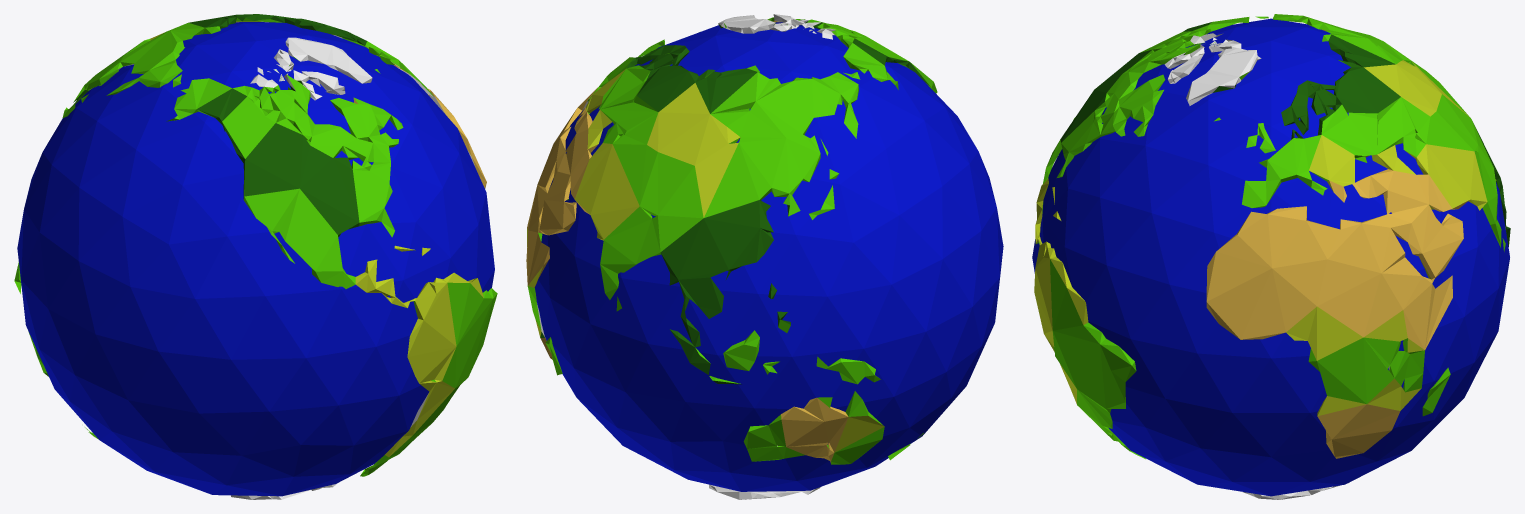
Rendered from planet1.glb.
3 renders of one model, left to right at view 1: azimuth 30°, elevation 25°; view 2: azimuth 150°, elevation 25°; view 3: azimuth 270°, elevation 25°, orthographic.
Visible parts, largest first — view 1: Icosphere, Topography; view 2: Icosphere, Topography; view 3: Icosphere, Topography.
Boxes of the visible parts, x1,y1,x2,y2 form: Icosphere: (17, 22, 494, 496); Topography: (14, 14, 497, 499); Icosphere: (534, 22, 1003, 491); Topography: (526, 14, 937, 499); Icosphere: (1032, 18, 1509, 496); Topography: (1034, 14, 1510, 499).
Bounding box in the file's own units: 1.98 × 2.02 × 1.98.
